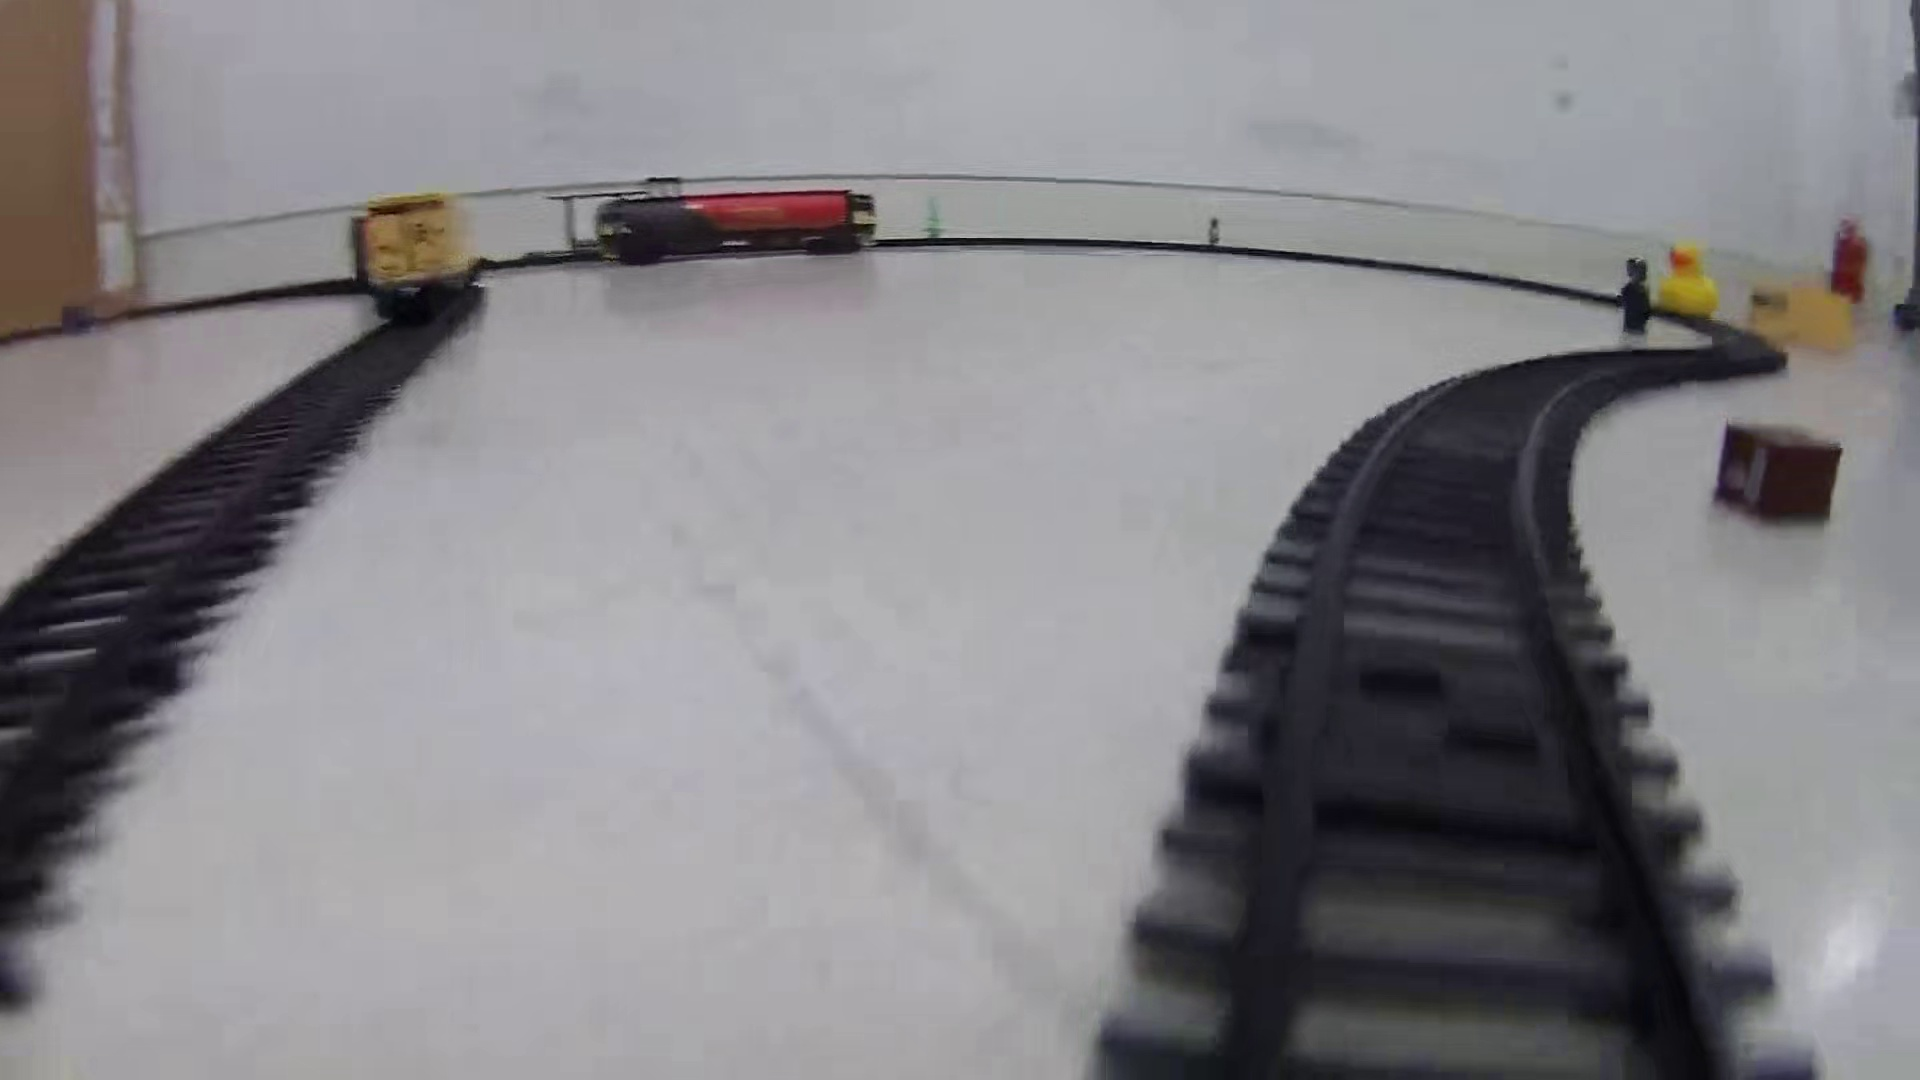box: (1705, 420, 1843, 532)
people: (1617, 255, 1657, 345), (1204, 212, 1222, 246)
tree: (918, 194, 948, 245)
